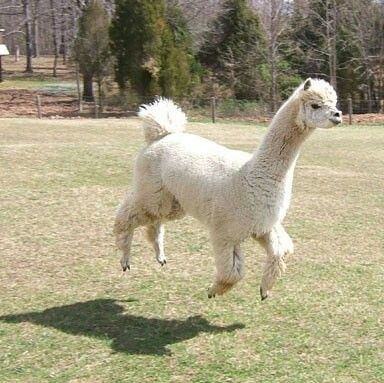alpaca: (112, 77, 342, 300)
